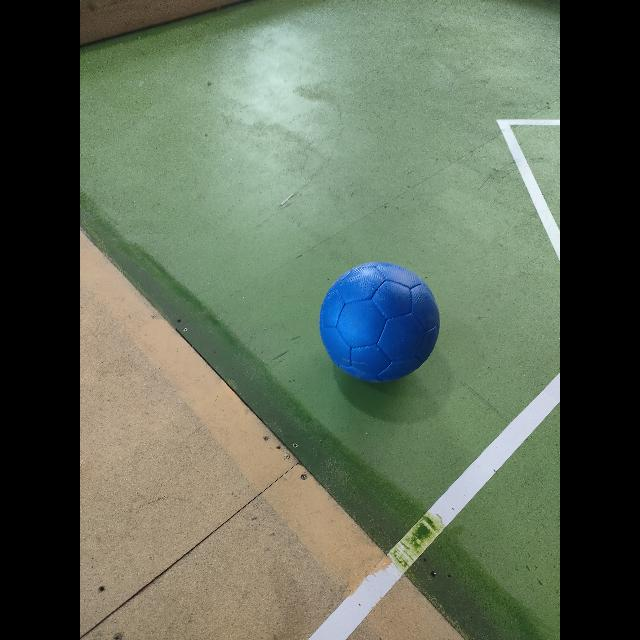B: (320, 262, 440, 382)
